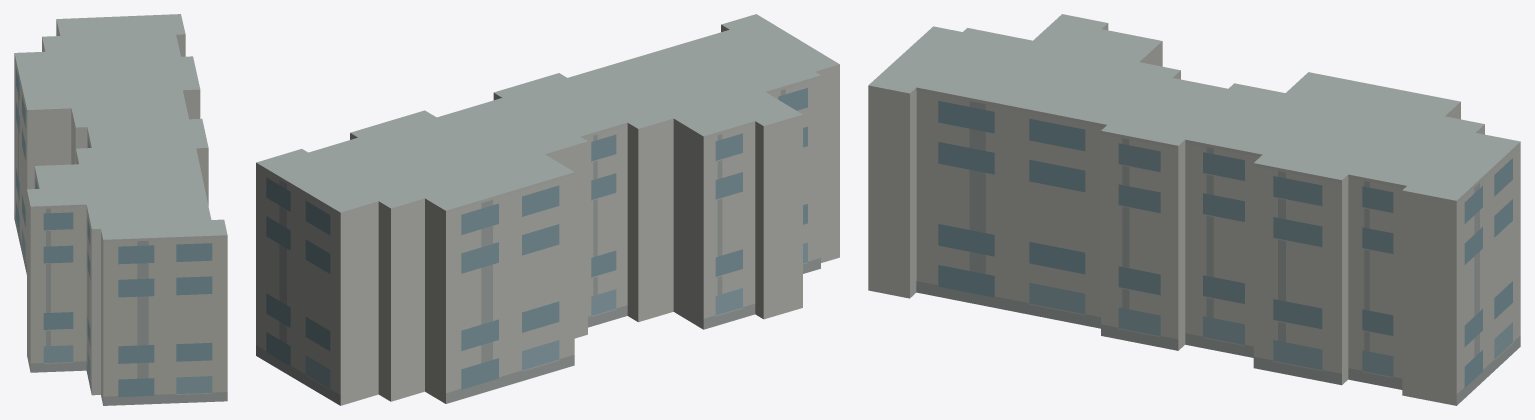
File: residential-78d236e4-3f86-4518-abb9-7013786be481.glb
The picture shows the model from 3 angles, left to right: view 1: azimuth 30°, elevation 25°; view 2: azimuth 150°, elevation 25°; view 3: azimuth 270°, elevation 25°; orthographic projection. The views are drawn at different scales.
Visible parts, largest first — view 1: residential-78d236e4-3f86-4518-abb9-7013786be481.tmp; view 2: residential-78d236e4-3f86-4518-abb9-7013786be481.tmp; view 3: residential-78d236e4-3f86-4518-abb9-7013786be481.tmp.
Boxes of the visible parts, x1,y1,x2,y2 form: residential-78d236e4-3f86-4518-abb9-7013786be481.tmp: (14,14,227,405); residential-78d236e4-3f86-4518-abb9-7013786be481.tmp: (256,14,839,405); residential-78d236e4-3f86-4518-abb9-7013786be481.tmp: (868,14,1520,405).
Bounding box in the file's own units: 29.81 × 15.25 × 43.98.
